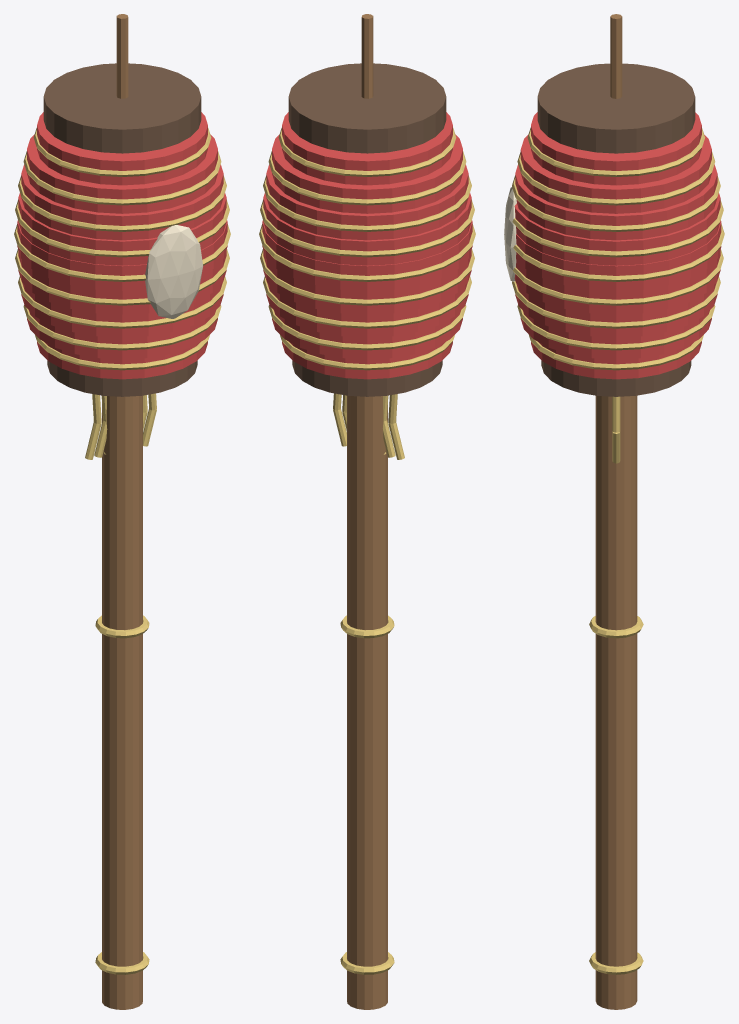
The model's file is ritual_takachochin_pole.glb.
3 renders of one model, left to right at view 1: azimuth 30°, elevation 25°; view 2: azimuth 150°, elevation 25°; view 3: azimuth 270°, elevation 25°, orthographic.
Parts seen in each view (by area): view 1: Takachochin tall bamboo shaft, Takachochin high lantern thin top, Takachochin high lantern folded paper.007, Takachochin high lantern folded paper.008, Takachochin high lantern folded paper.006, Takachochin high lantern painted crest, Takachochin high lantern folded paper.005, Takachochin high lantern folded paper.002, Takachochin high lantern folded paper.004, Takachochin high lantern folded paper.001, Takachochin high lantern folded paper.003, Takachochin high lantern bottom (+13 smaller); view 2: Takachochin tall bamboo shaft, Takachochin high lantern thin top, Takachochin high lantern folded paper.007, Takachochin high lantern folded paper.008, Takachochin high lantern folded paper.006, Takachochin high lantern folded paper.005, Takachochin high lantern folded paper.004, Takachochin high lantern folded paper.003, Takachochin high lantern folded paper.002, Takachochin high lantern folded paper.001, Takachochin high lantern bottom, Takachochin high lantern folded paper (+12 smaller); view 3: Takachochin tall bamboo shaft, Takachochin high lantern thin top, Takachochin high lantern folded paper.007, Takachochin high lantern folded paper.008, Takachochin high lantern folded paper.006, Takachochin high lantern folded paper.005, Takachochin high lantern folded paper.004, Takachochin high lantern folded paper.003, Takachochin high lantern folded paper.002, Takachochin high lantern folded paper.001, Takachochin high lantern bottom, Takachochin high lantern folded paper (+13 smaller).
Boxes of the visible parts, bbox=[...] form: Takachochin tall bamboo shaft: bbox=[102, 395, 142, 1009]; Takachochin high lantern thin top: bbox=[43, 63, 201, 153]; Takachochin high lantern folded paper.007: bbox=[27, 134, 217, 213]; Takachochin high lantern folded paper.008: bbox=[37, 112, 207, 185]; Takachochin high lantern folded paper.006: bbox=[21, 164, 223, 240]; Takachochin high lantern painted crest: bbox=[145, 225, 202, 318]; Takachochin high lantern folded paper.005: bbox=[18, 193, 226, 265]; Takachochin high lantern folded paper.002: bbox=[21, 282, 223, 337]; Takachochin high lantern folded paper.004: bbox=[17, 220, 227, 290]; Takachochin high lantern folded paper.001: bbox=[27, 310, 217, 359]; Takachochin high lantern folded paper.003: bbox=[18, 250, 226, 314]; Takachochin high lantern bottom: bbox=[47, 360, 197, 396]; Takachochin tall bamboo shaft: bbox=[347, 395, 387, 1009]; Takachochin high lantern thin top: bbox=[288, 63, 446, 153]; Takachochin high lantern folded paper.007: bbox=[272, 134, 462, 213]; Takachochin high lantern folded paper.008: bbox=[282, 112, 452, 185]; Takachochin high lantern folded paper.006: bbox=[266, 164, 468, 240]; Takachochin high lantern folded paper.005: bbox=[263, 193, 471, 265]; Takachochin high lantern folded paper.004: bbox=[262, 220, 472, 290]; Takachochin high lantern folded paper.003: bbox=[263, 250, 471, 314]; Takachochin high lantern folded paper.002: bbox=[266, 282, 468, 337]; Takachochin high lantern folded paper.001: bbox=[272, 310, 462, 359]; Takachochin high lantern bottom: bbox=[292, 360, 442, 396]; Takachochin high lantern folded paper: bbox=[282, 341, 452, 379]; Takachochin tall bamboo shaft: bbox=[595, 395, 637, 1009]; Takachochin high lantern thin top: bbox=[537, 63, 695, 153]; Takachochin high lantern folded paper.007: bbox=[520, 135, 711, 213]; Takachochin high lantern folded paper.008: bbox=[531, 112, 701, 185]; Takachochin high lantern folded paper.006: bbox=[515, 164, 717, 240]; Takachochin high lantern folded paper.005: bbox=[514, 193, 720, 265]; Takachochin high lantern folded paper.004: bbox=[516, 220, 721, 290]; Takachochin high lantern folded paper.003: bbox=[514, 250, 720, 314]; Takachochin high lantern folded paper.002: bbox=[515, 283, 717, 337]; Takachochin high lantern folded paper.001: bbox=[520, 310, 711, 359]; Takachochin high lantern bottom: bbox=[541, 360, 691, 396]; Takachochin high lantern folded paper: bbox=[531, 341, 701, 379].
Bounding box in the file's own units: 0.3894 × 1.95 × 0.3961.
